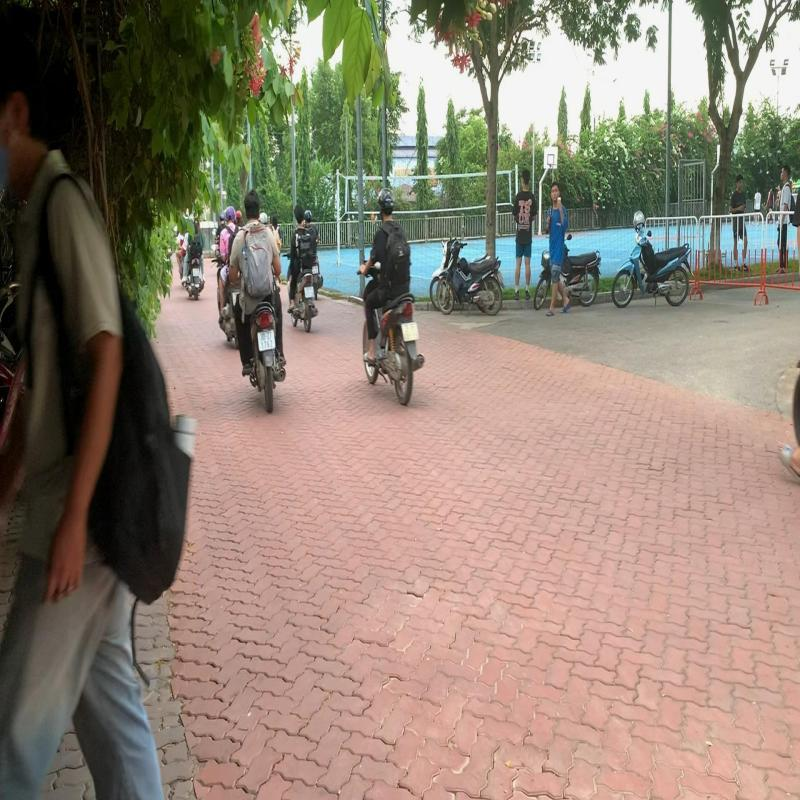nohelmet: (244, 189, 262, 220)
